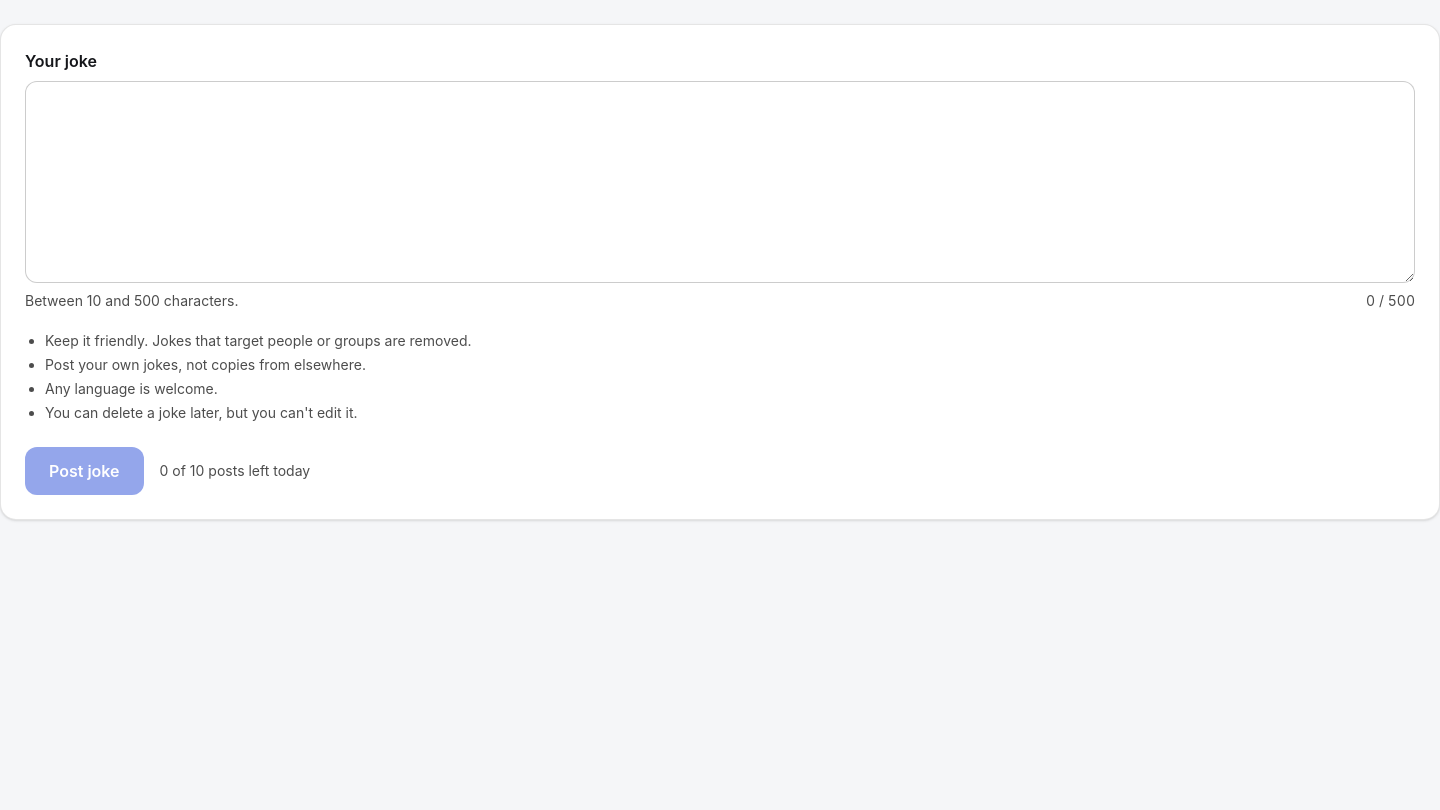
PostJokeForm › shows a friendly rate-limit message with the retry time
The image size is (1440, 810).
Type "One more joke please" into the text box labelled "Your joke" at point(720, 182), box 25,81 -> 1415,282
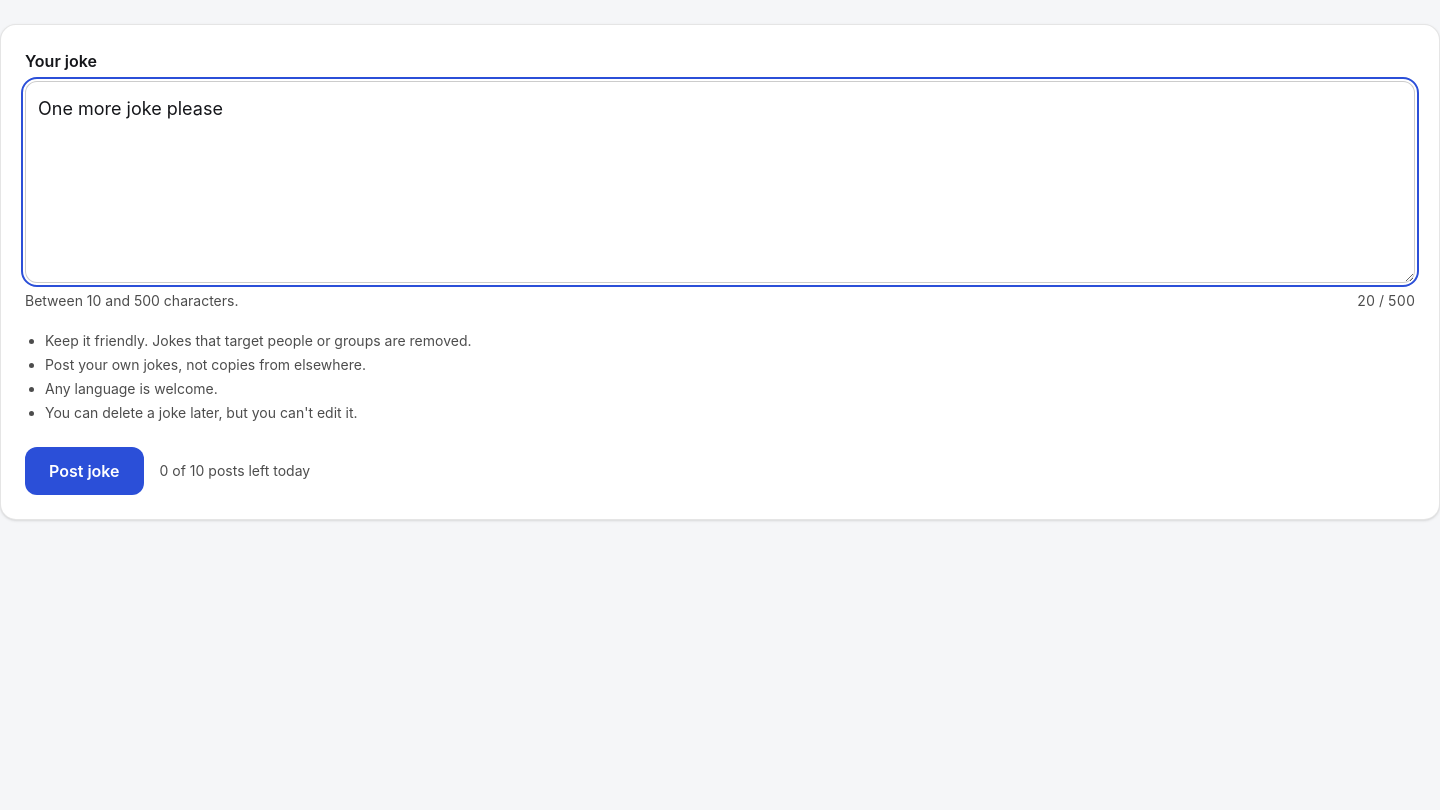
Click the button "Post joke" at point(84, 470), box 25,446 -> 144,494
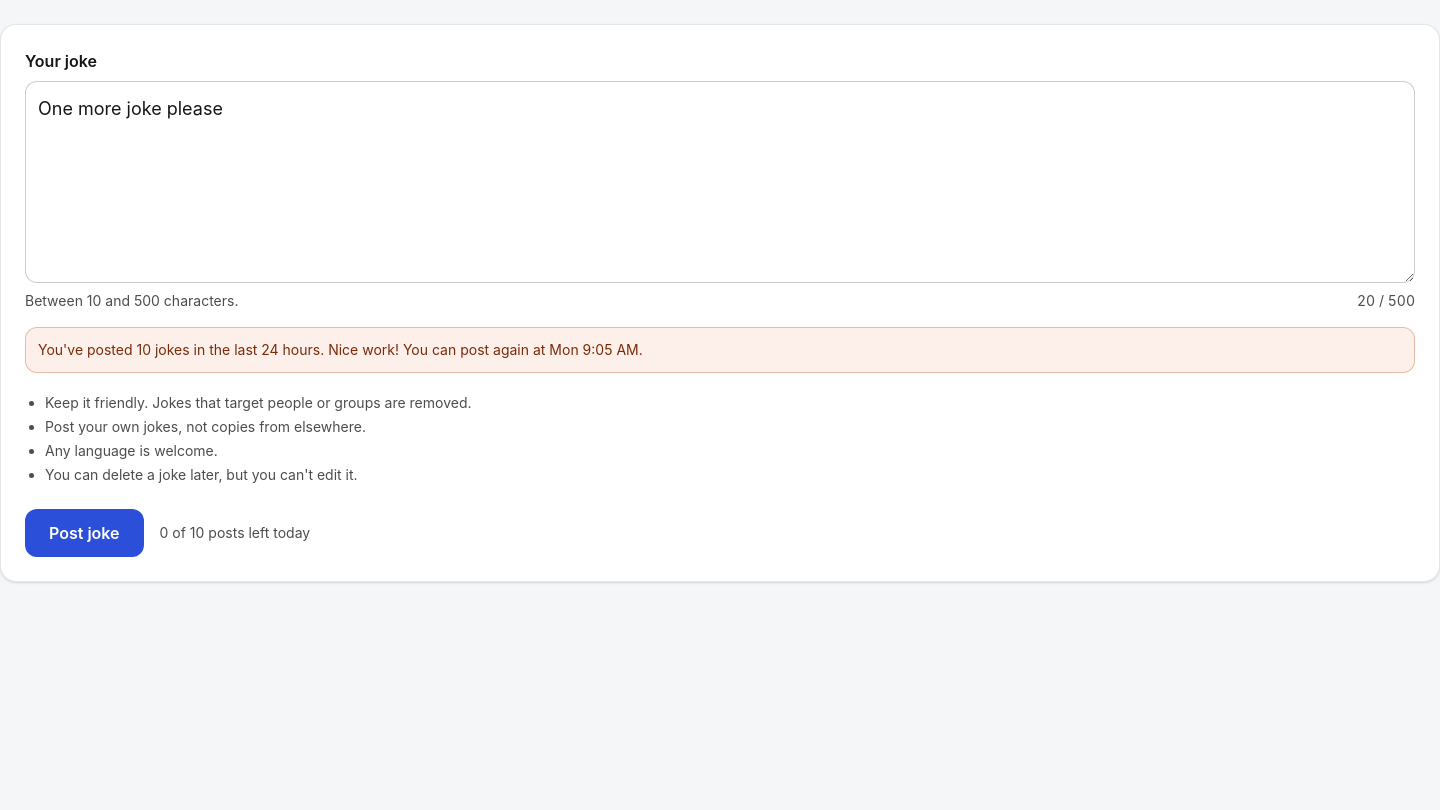
Expected: the message shows "You've posted 10 jokes in the last 24 hours.", 38,340 -> 643,358
